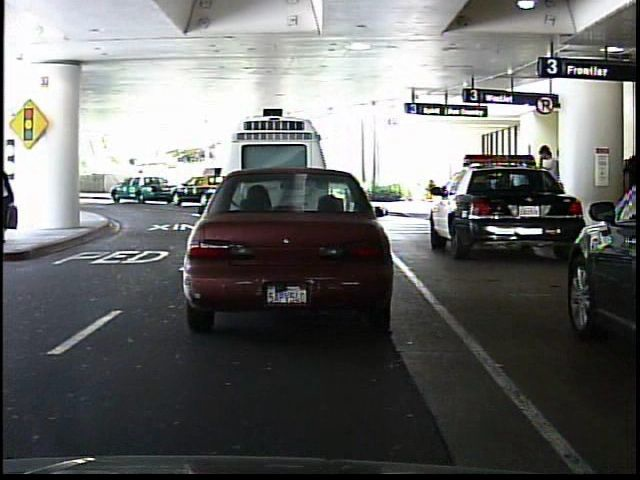person: (534, 140, 567, 238), (132, 165, 151, 198)
